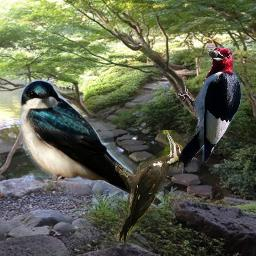Swallow: (19, 79, 164, 208)
Woodpecker: (172, 39, 243, 177), (112, 130, 190, 245)
